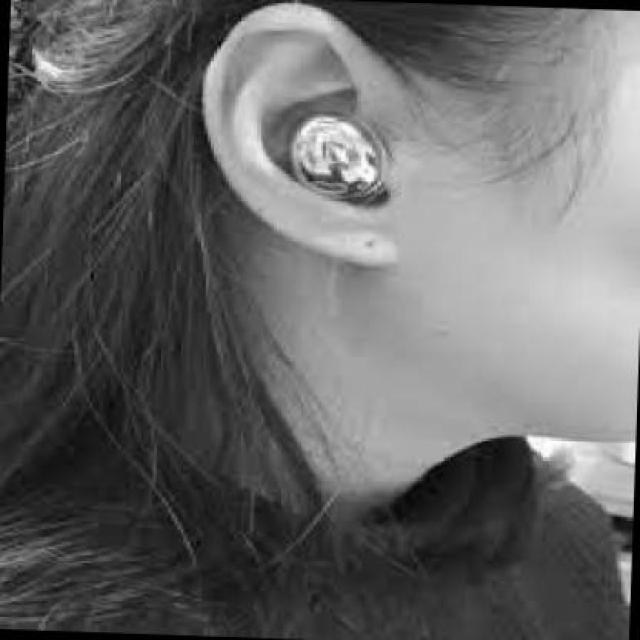earphone: (251, 101, 406, 221)
